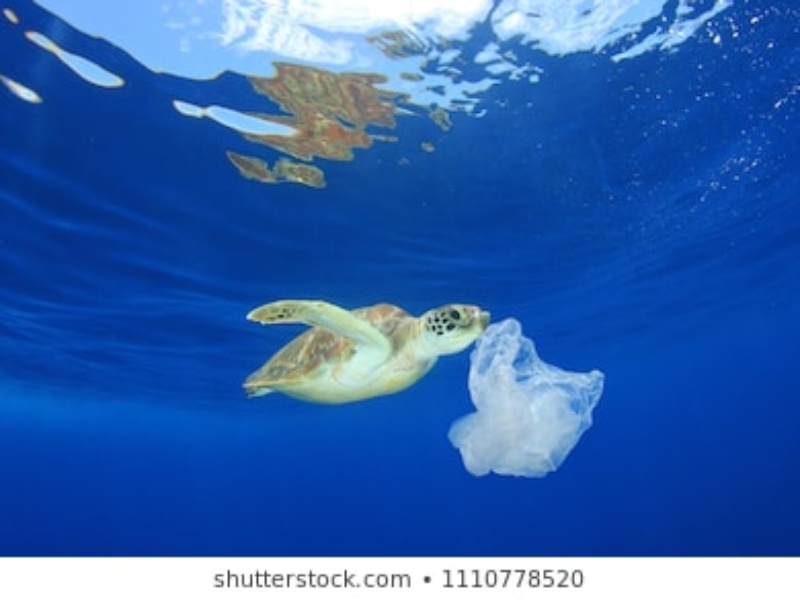plastic-bag: (446, 311, 610, 487)
